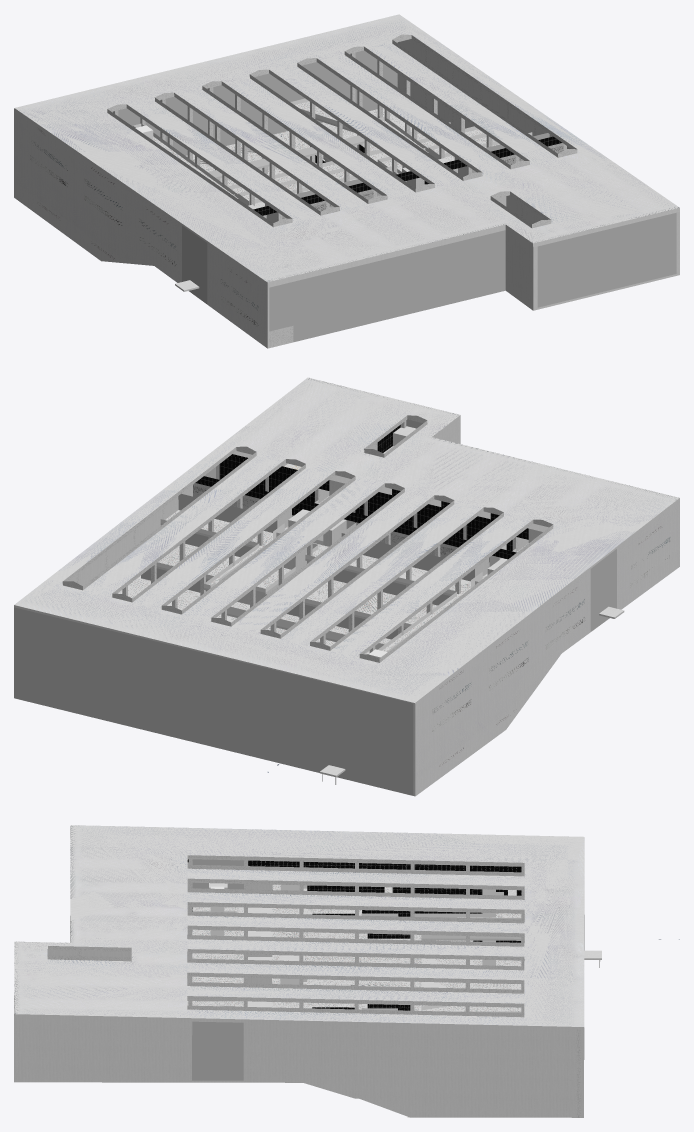
File: fun_v2.2.fbx
3 views of the same model, one above another, from view 1: azimuth 30°, elevation 25°; view 2: azimuth 150°, elevation 25°; view 3: azimuth 270°, elevation 25° (orthographic). The views are drawn at different scales.
Visible parts, largest first — view 1: instance_0.304, instance_0.129, instance_0.130, instance_0.302, instance_0, instance_0.375, instance_0.424, instance_0.319, instance_0.305, instance_0.308, instance_0.139, instance_0.138 (+8 smaller); view 2: instance_0.304, instance_0.375, instance_0.130, instance_0, instance_0.424, instance_0.319, instance_0.138, instance_0.308, instance_0.318, instance_0.139, instance_0.307, instance_0.305 (+5 smaller); view 3: instance_0.304, instance_0, instance_0.307, instance_0.308, instance_0.139, instance_0.138, instance_0.305, instance_0.318, instance_0.319, instance_0.300, instance_0.345, instance_0.176 (+8 smaller).
Part boxes in pixels (left/top/right/bottom): instance_0.304: left=15, top=14, right=679, bottom=282; instance_0.129: left=269, top=230, right=505, bottom=342; instance_0.130: left=14, top=109, right=181, bottom=282; instance_0.302: left=537, top=212, right=676, bottom=307; instance_0: left=14, top=39, right=679, bottom=348; instance_0.375: left=112, top=42, right=397, bottom=155; instance_0.424: left=207, top=243, right=267, bottom=348; instance_0.319: left=392, top=34, right=577, bottom=157; instance_0.305: left=344, top=46, right=529, bottom=169; instance_0.308: left=202, top=81, right=387, bottom=203; instance_0.139: left=297, top=58, right=482, bottom=180; instance_0.138: left=107, top=104, right=292, bottom=227; instance_0.304: left=14, top=377, right=679, bottom=702; instance_0.375: left=14, top=607, right=413, bottom=795; instance_0.130: left=415, top=569, right=590, bottom=796; instance_0: left=14, top=415, right=679, bottom=796; instance_0.424: left=617, top=500, right=679, bottom=609; instance_0.319: left=62, top=446, right=256, bottom=590; instance_0.138: left=359, top=519, right=553, bottom=662; instance_0.308: left=260, top=495, right=454, bottom=638; instance_0.318: left=310, top=507, right=503, bottom=650; instance_0.139: left=161, top=471, right=355, bottom=614; instance_0.307: left=211, top=483, right=404, bottom=626; instance_0.305: left=112, top=459, right=305, bottom=602; instance_0.304: left=14, top=825, right=584, bottom=1026; instance_0: left=14, top=826, right=584, bottom=1117; instance_0.307: left=187, top=925, right=524, bottom=946; instance_0.308: left=187, top=902, right=524, bottom=923; instance_0.139: left=187, top=949, right=524, bottom=970; instance_0.138: left=187, top=855, right=524, bottom=876; instance_0.305: left=187, top=972, right=524, bottom=993; instance_0.318: left=187, top=878, right=524, bottom=899; instance_0.319: left=187, top=996, right=524, bottom=1017; instance_0.300: left=192, top=1021, right=243, bottom=1080; instance_0.345: left=307, top=909, right=521, bottom=1011; instance_0.176: left=192, top=907, right=410, bottom=1008.
Bounding box in the file's own units: 10635 × 2812 × 15122.
